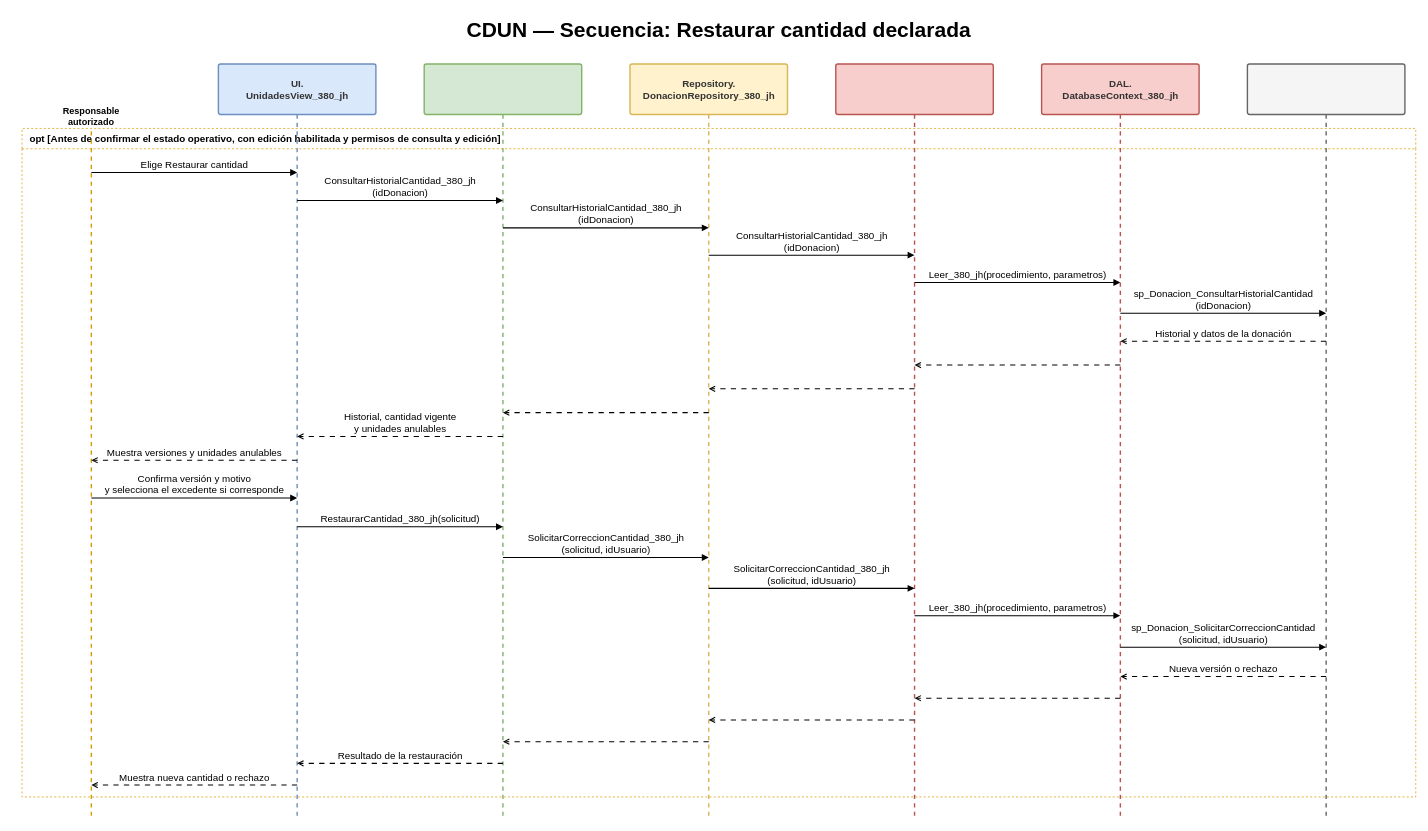
Image size: 1428x831. Some labels were removed from this diagram. Here are the shapes that lost their labels. From the top down, the box of each, then its label:
(423, 63, 582, 819): Application. DonacionApplicationService _380_jh
(835, 63, 994, 819): DAL. DonacionDataMapper_380_jh
(1246, 63, 1405, 819): SQL Server
